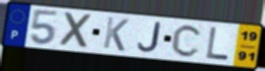5: (29, 9, 61, 47)
C: (169, 23, 205, 59)
J: (135, 21, 162, 54)
K: (101, 16, 131, 53)
L: (205, 26, 231, 62)
X: (59, 10, 95, 50)
